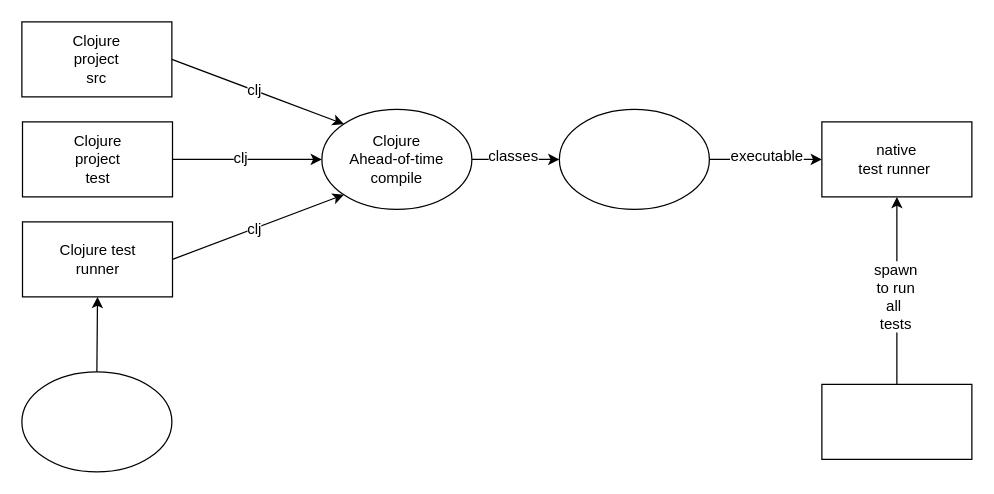
Some shapes in this 994 by 494 pixel diagram are drawn without their labels. Each missing label, with the centre of its shape:
"Clojure test runner generator" goes at point 96,421.
"GraalVM native-image" goes at point 633,158.
"OS Shell" goes at point 896,421.
